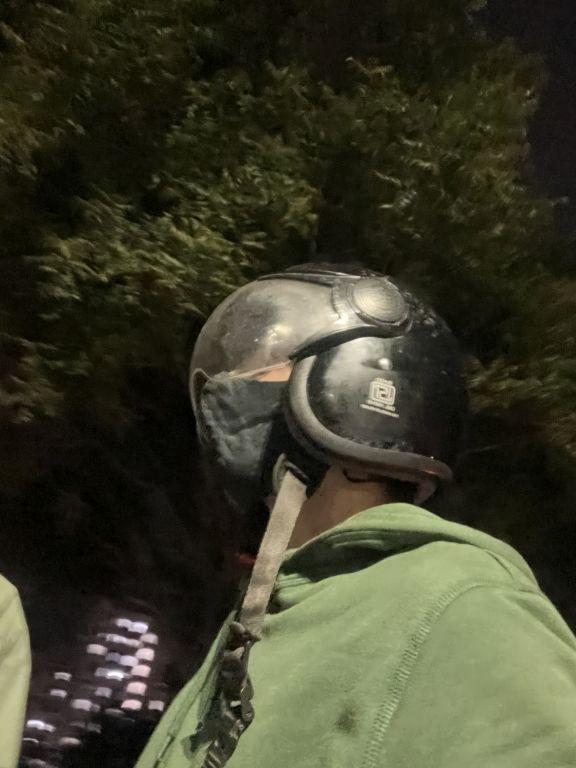helmet: (150, 249, 484, 525)
